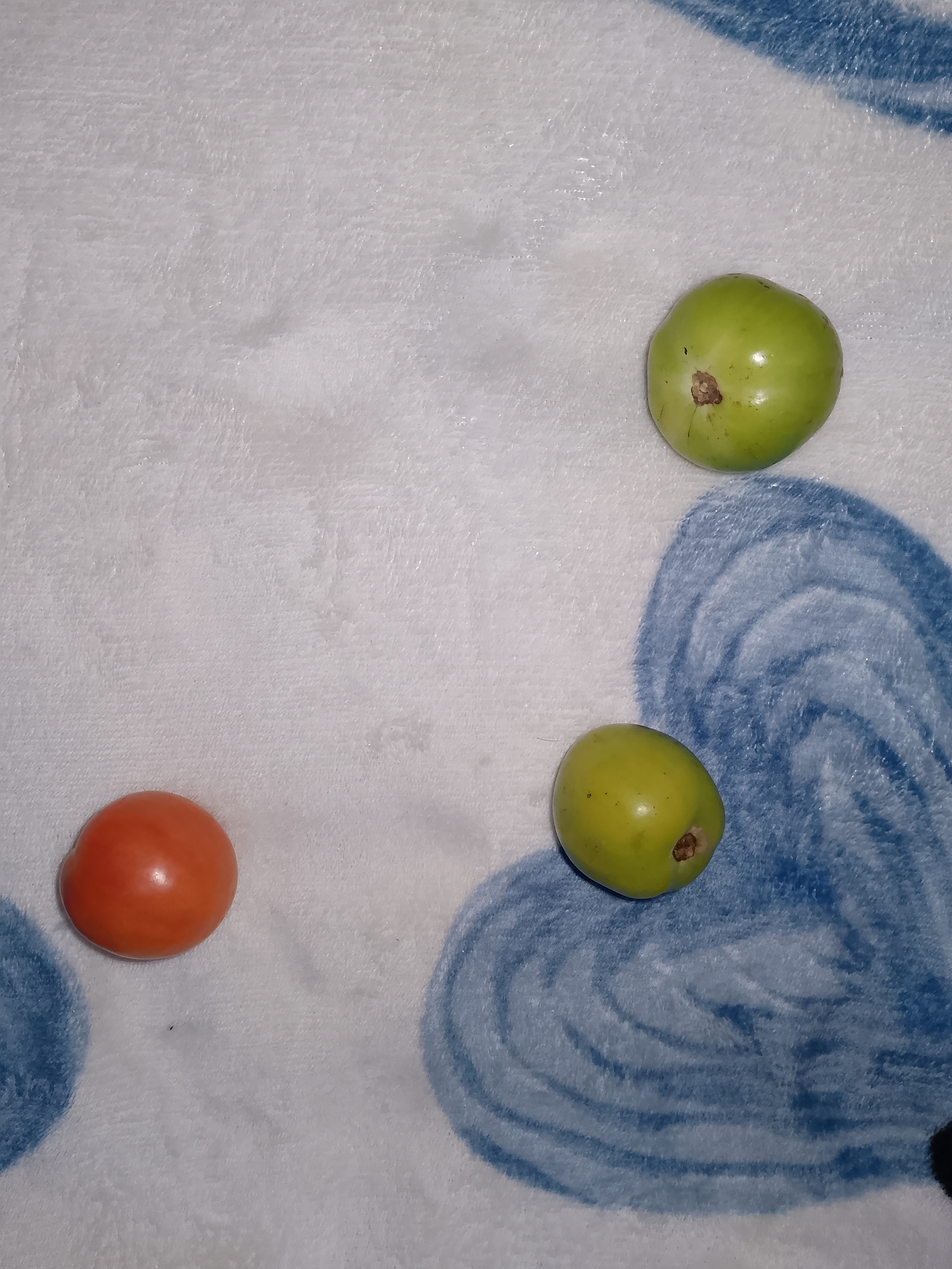Ripe: (3, 758, 293, 1012)
Unripe: (605, 234, 896, 488), (498, 683, 745, 924)
